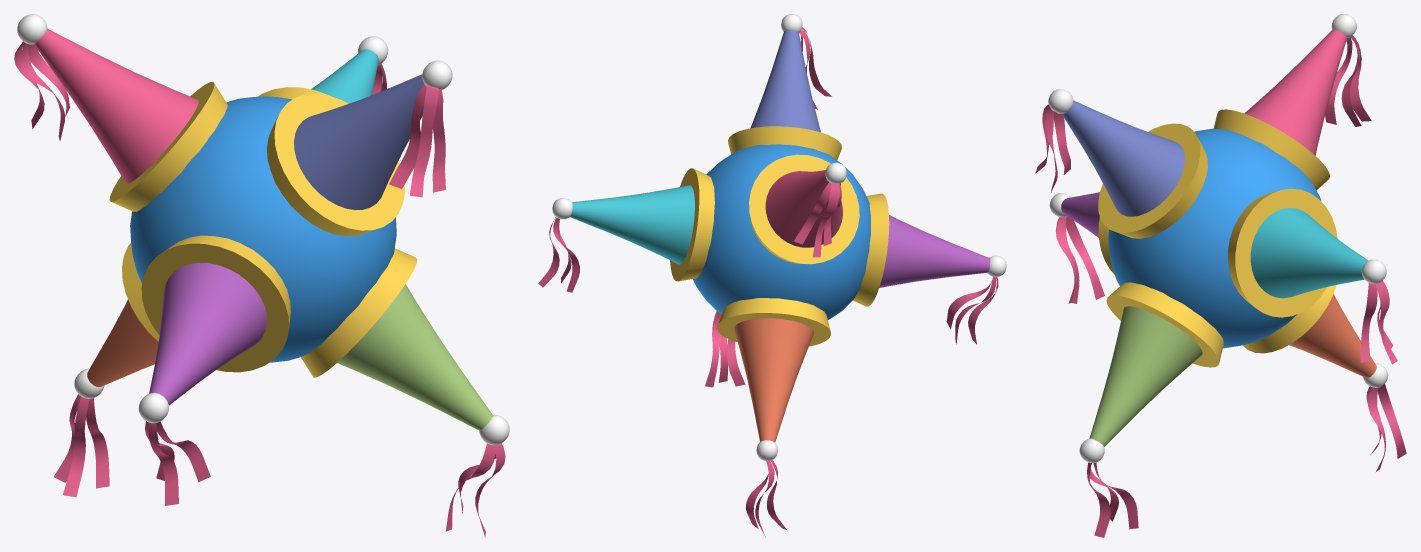
The model's file is pinata.glb.
3 views of the same model, side by side, from view 1: azimuth 30°, elevation 25°; view 2: azimuth 150°, elevation 25°; view 3: azimuth 270°, elevation 25° (orthographic). The views are drawn at different scales.
Parts seen in each view (by area): view 1: Cube.849; view 2: Cube.849; view 3: Cube.849.
Boxes of the visible parts, bbox=[...] form: Cube.849: bbox=[14, 14, 509, 537]; Cube.849: bbox=[538, 14, 1006, 537]; Cube.849: bbox=[1035, 14, 1406, 537].
Size of the model in its own units: 1.97 by 2.26 by 1.73.
1 material, 1 textured.
